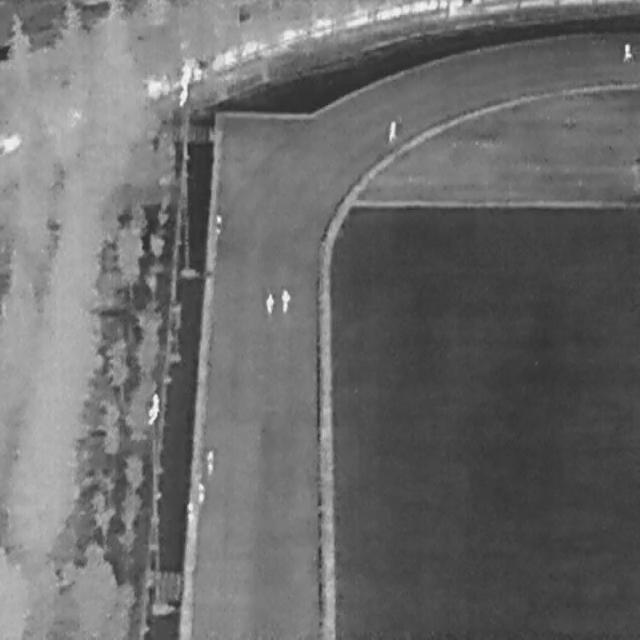Person: (279, 287, 290, 315), (387, 119, 396, 142), (264, 291, 273, 314), (206, 450, 214, 474), (197, 480, 205, 504), (186, 500, 194, 524), (623, 42, 631, 62), (215, 214, 222, 234)
